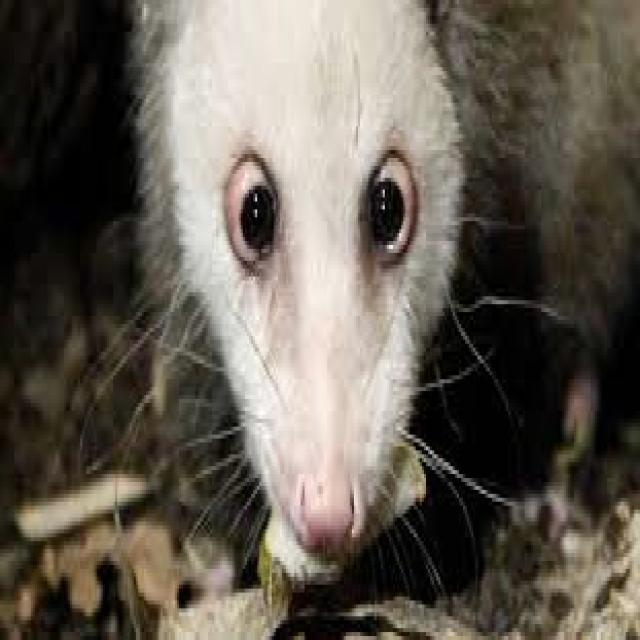possum: (134, 0, 640, 581)
